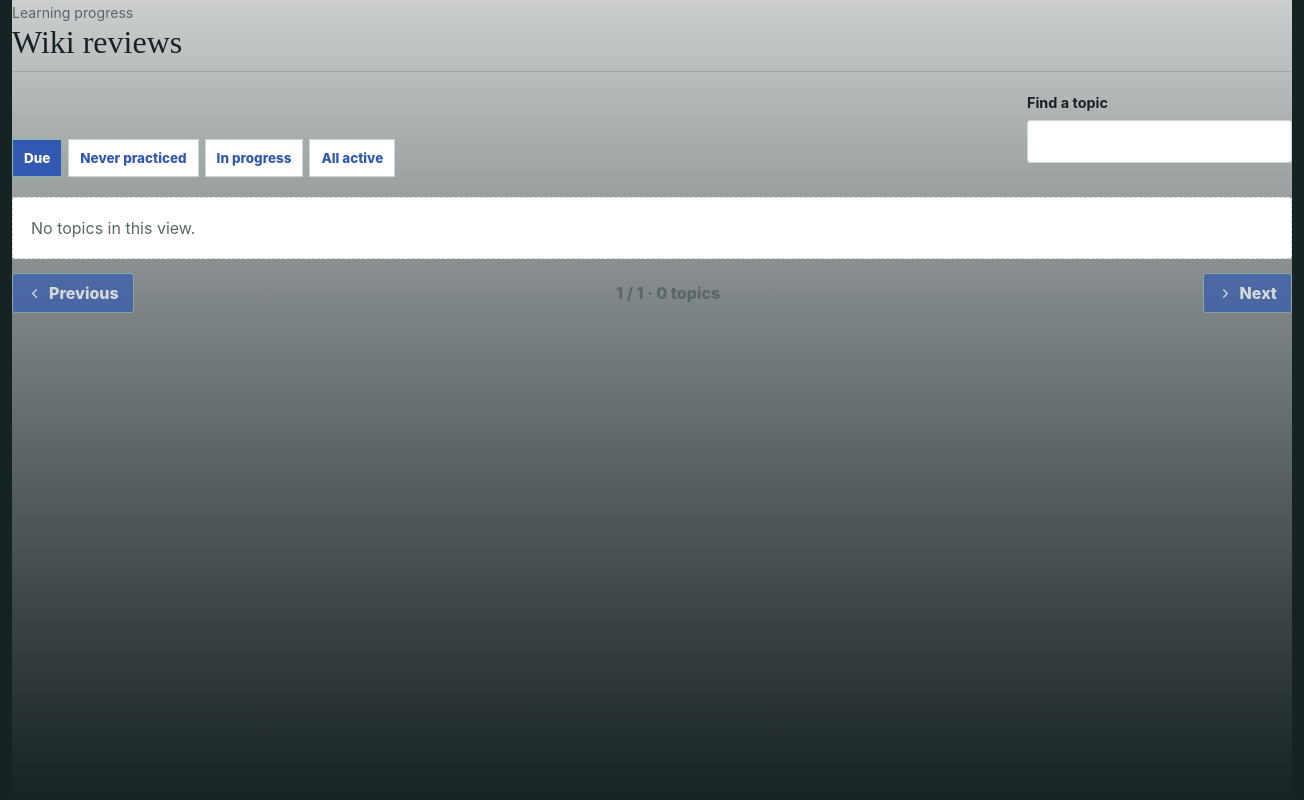
Test: excludes archived/disabled topics from the Wiki review queue
This screenshot has width=1304, height=800.
Click the button "In progress".
click(254, 158)  # box x1=205 y1=139 x2=303 y2=177
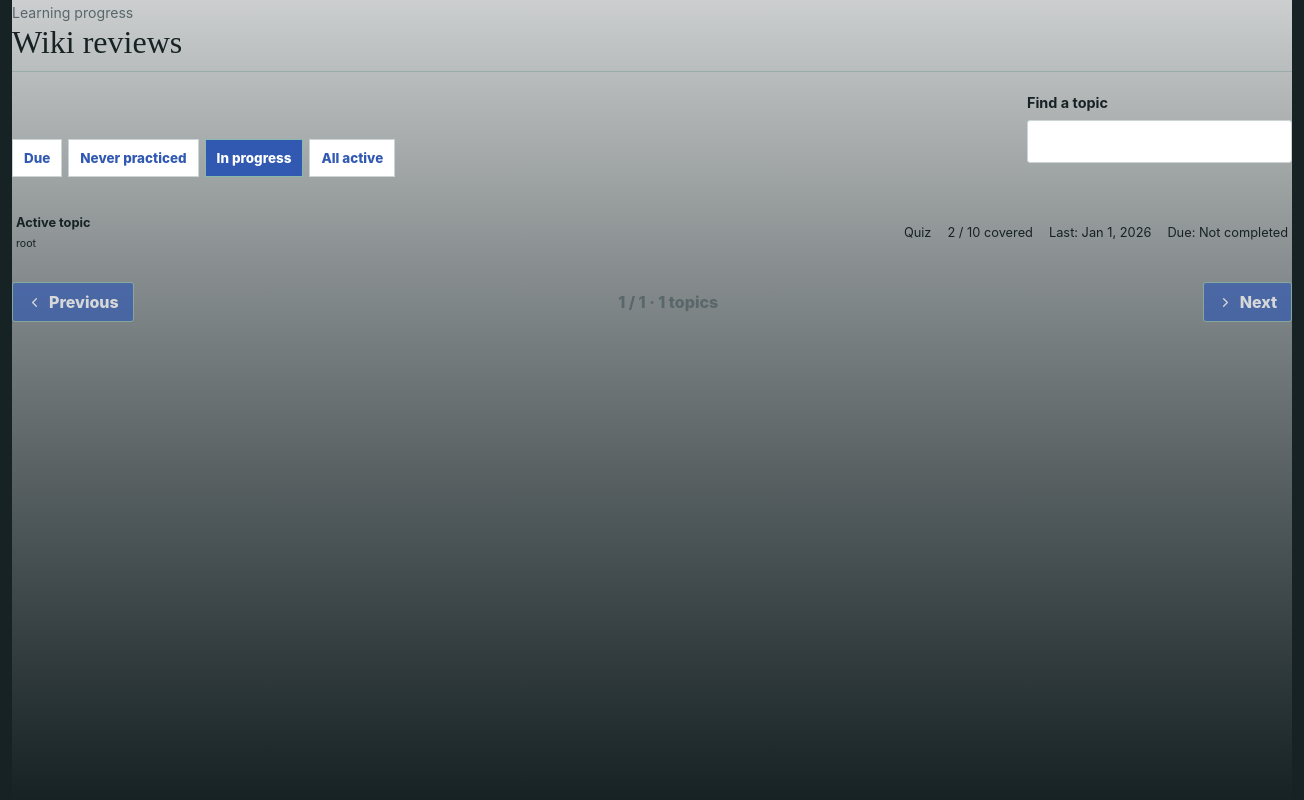
Check: the text "Active topic" is shown, box x1=16 y1=215 x2=90 y2=230
